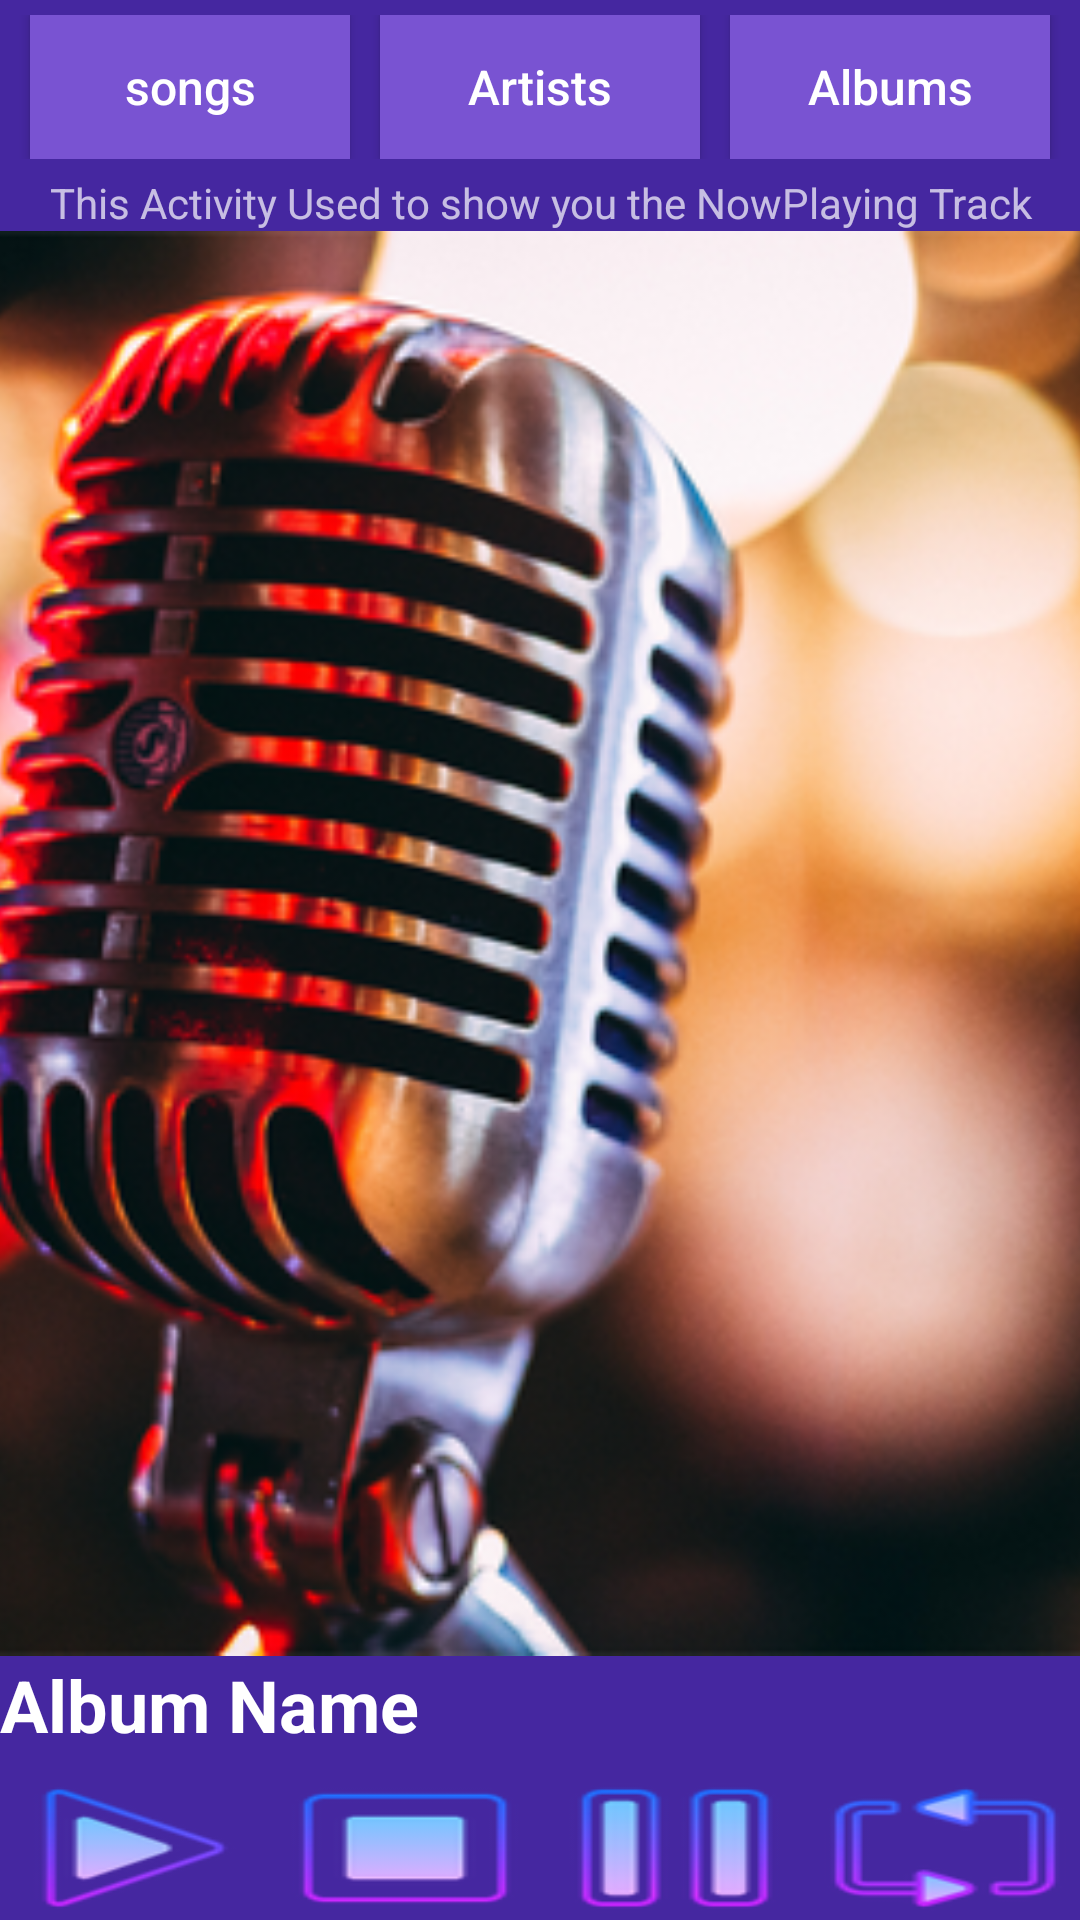

Icon click points for this 1080w x 1920h phone screenshot, format (x=x, y=y):
pause: (x=675, y=1848)
play: (x=135, y=1848)
repeat: (x=945, y=1848)
stop: (x=405, y=1848)
